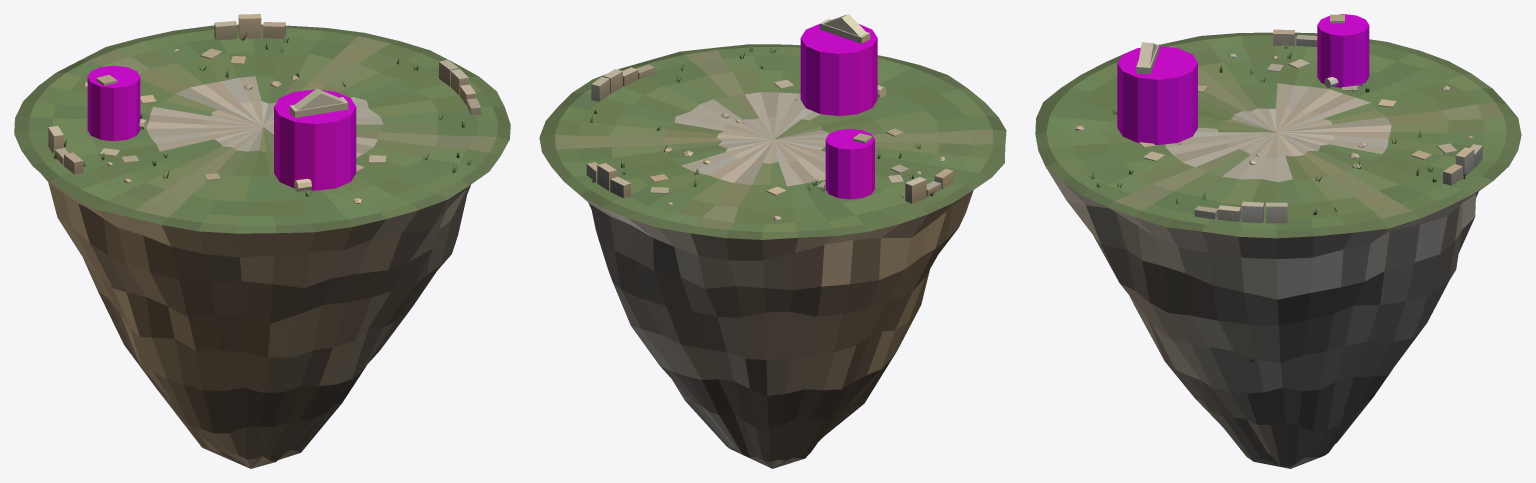
The model's file is isle_wild_ruin.glb.
3 renders of one model, left to right at view 1: azimuth 30°, elevation 25°; view 2: azimuth 150°, elevation 25°; view 3: azimuth 270°, elevation 25°, orthographic. The views are drawn at different scales.
Visible parts, largest first — view 1: isle_wild_ruin, col_ruin_a, col_ruin_b; view 2: isle_wild_ruin, col_ruin_a, col_ruin_b; view 3: isle_wild_ruin, col_ruin_a, col_ruin_b.
Part boxes in pixels (x1,y1,x2,y2): isle_wild_ruin: (14,14,510,468); col_ruin_a: (274,89,356,190); col_ruin_b: (87,65,140,141); isle_wild_ruin: (539,14,1006,468); col_ruin_a: (800,24,877,116); col_ruin_b: (825,129,874,199); isle_wild_ruin: (1035,14,1521,468); col_ruin_a: (1117,46,1197,144); col_ruin_b: (1317,14,1369,87).
Bounding box in the file's own units: 33.78 × 32.5 × 33.77.
